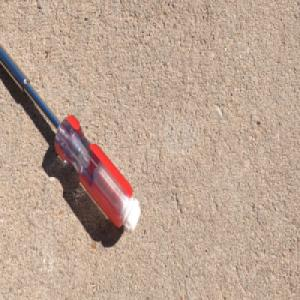Screwdriver: (0, 36, 142, 235)
